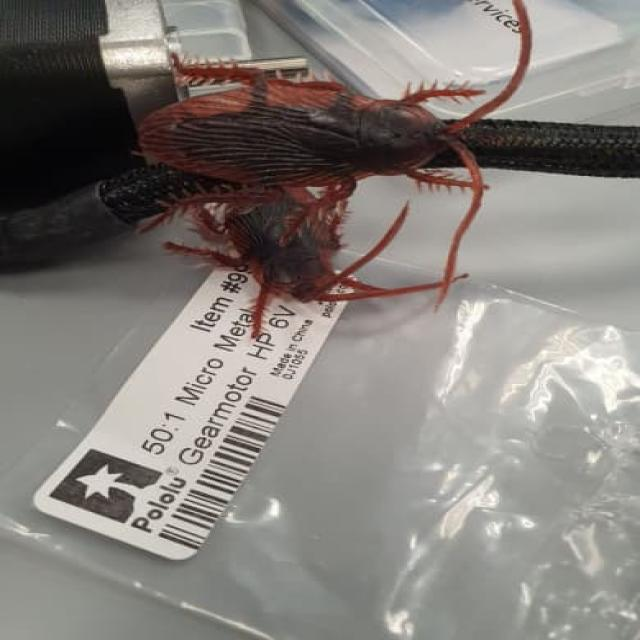Cockroach: (121, 15, 550, 229), (148, 155, 458, 350)
